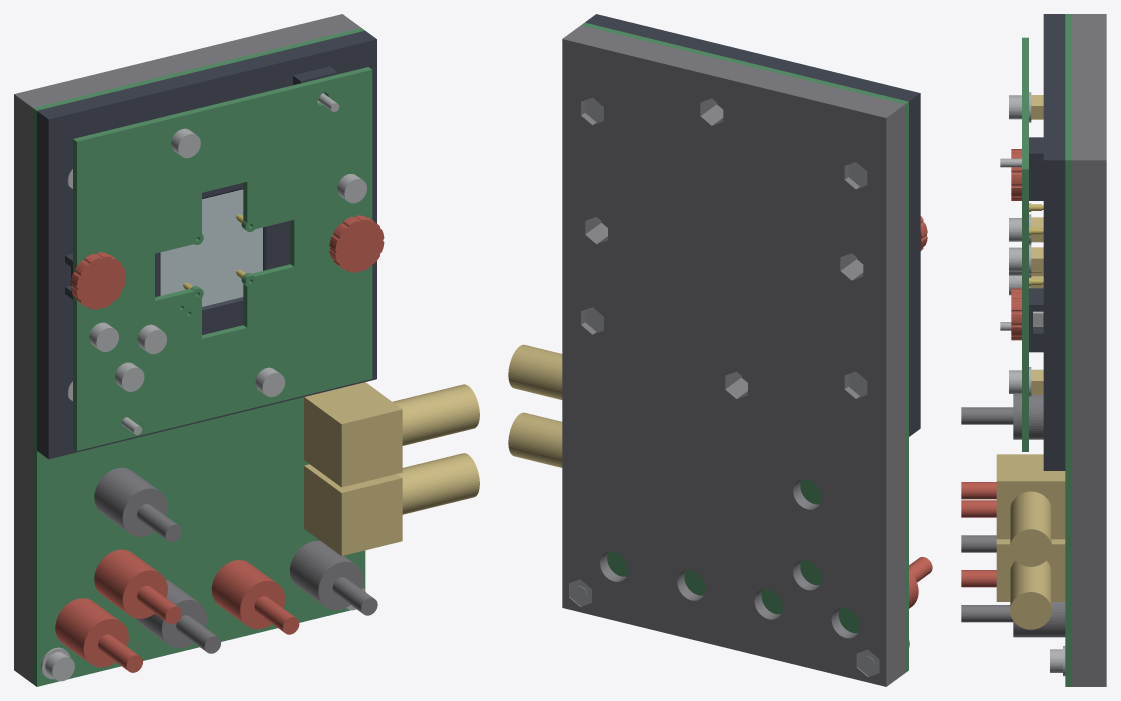
Rendered from T2P-L3-pin.glb.
3 views of the same model, side by side, from view 1: azimuth 30°, elevation 25°; view 2: azimuth 150°, elevation 25°; view 3: azimuth 270°, elevation 25° (orthographic). The views are drawn at different scales.
Parts seen in each view (by area): view 1: p034, p001, p002, p000, p013, p012, p007, p008, p010, p032, p033, p011 (+3 smaller); view 2: p000, p002, p001, p012, p013, p008; view 3: p000, p002, p013, p001, p012, p034, p032, p011, p008, p009, p010, p033 (+11 smaller).
Boxes of the visible parts, x1,y1,x2,y2 form: p034: [73, 67, 372, 450]; p001: [33, 28, 365, 686]; p002: [37, 31, 376, 459]; p000: [14, 14, 360, 683]; p013: [304, 382, 479, 487]; p012: [304, 453, 479, 555]; p007: [160, 189, 262, 306]; p008: [55, 598, 142, 672]; p010: [211, 560, 299, 634]; p032: [94, 467, 181, 542]; p033: [94, 549, 181, 624]; p011: [290, 541, 377, 615]; p000: [562, 25, 904, 686]; p002: [585, 14, 920, 436]; p001: [581, 22, 908, 672]; p012: [508, 412, 562, 467]; p013: [508, 344, 562, 399]; p008: [909, 557, 932, 608]; p000: [1072, 14, 1106, 686]; p002: [1029, 14, 1065, 470]; p013: [996, 454, 1065, 566]; p001: [1065, 14, 1071, 686]; p012: [996, 539, 1065, 629]; p034: [1022, 37, 1028, 451]; p032: [961, 394, 1043, 439]; p011: [961, 602, 1065, 637]; p008: [961, 500, 996, 517]; p009: [961, 535, 996, 552]; p010: [961, 570, 996, 587]; p033: [961, 482, 996, 499].
Size of the model in its own units: 101 by 134 by 33.6.
